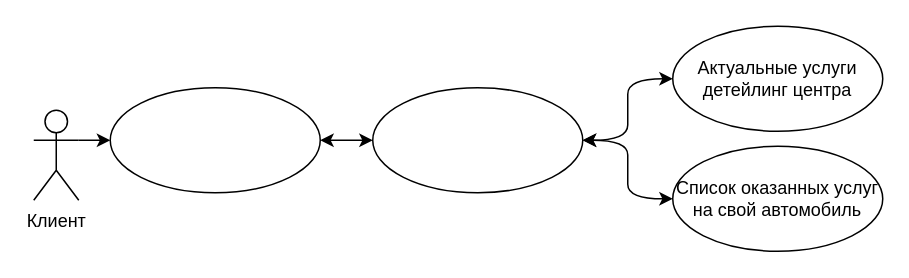
Some shapes in this 909 by 278 pixel diagram are drawn without their labels. The centre of each missing label's shape, as x and y in pixels:
"Главная форма приложения" belongs at pixel 214 139.
"Форма для работы клиента" belongs at pixel 477 139.
